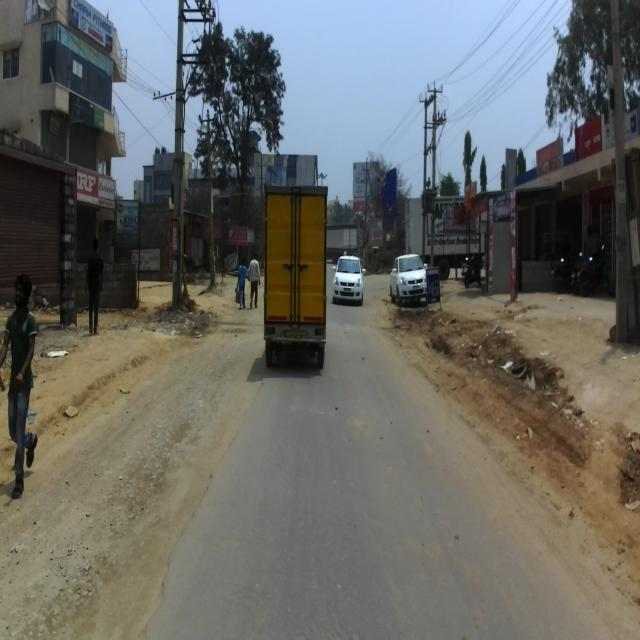electric pole ahead at: (166, 0, 213, 303)
person ahead at: (0, 271, 38, 506)
truck ahead at: (260, 178, 330, 377)
